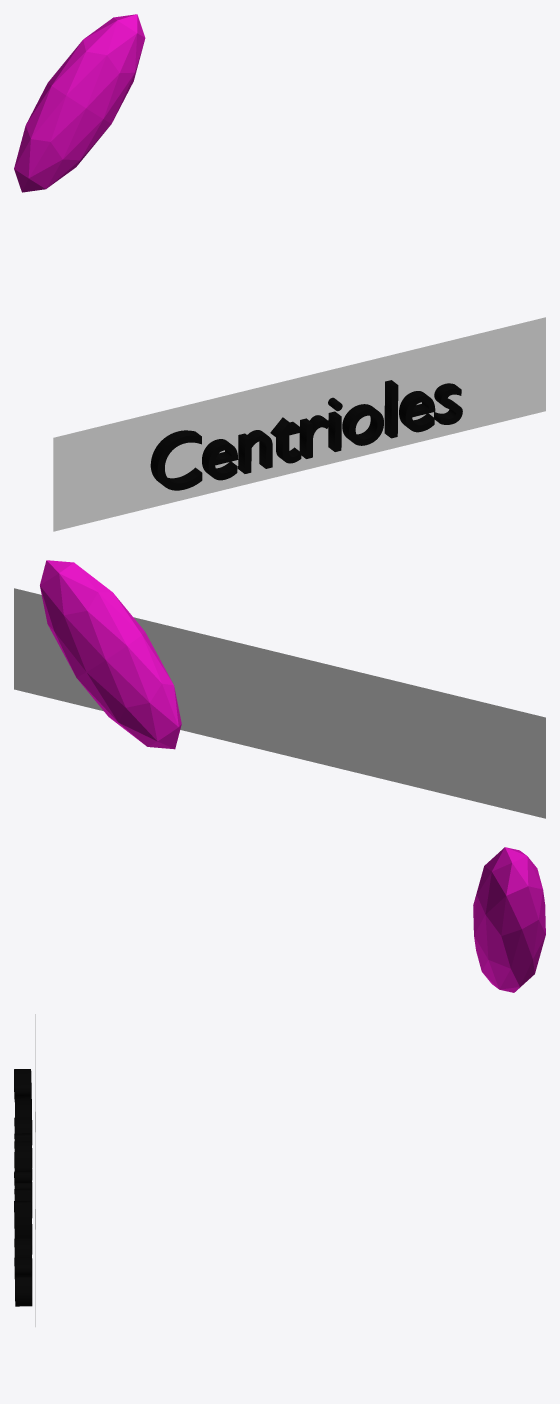
File: centrioles1.gltf
The picture shows the model from 3 angles, top to bottom: view 1: azimuth 30°, elevation 25°; view 2: azimuth 150°, elevation 25°; view 3: azimuth 270°, elevation 25°; orthographic projection. The views are drawn at different scales.
Visible parts, largest first — view 1: Plane.040, Icosphere.003, Text.025; view 2: Plane.040, Icosphere.003; view 3: Icosphere.003, Text.025.
Boxes of the visible parts, x1,y1,x2,y2 form: Plane.040: (53,317,545,531); Icosphere.003: (14,14,145,192); Text.025: (150,380,462,490); Plane.040: (14,588,545,818); Icosphere.003: (40,560,181,749); Icosphere.003: (473,847,545,992); Text.025: (14,1069,32,1306).
Bounding box in the file's own units: 1.33 × 0.8101 × 0.991.
